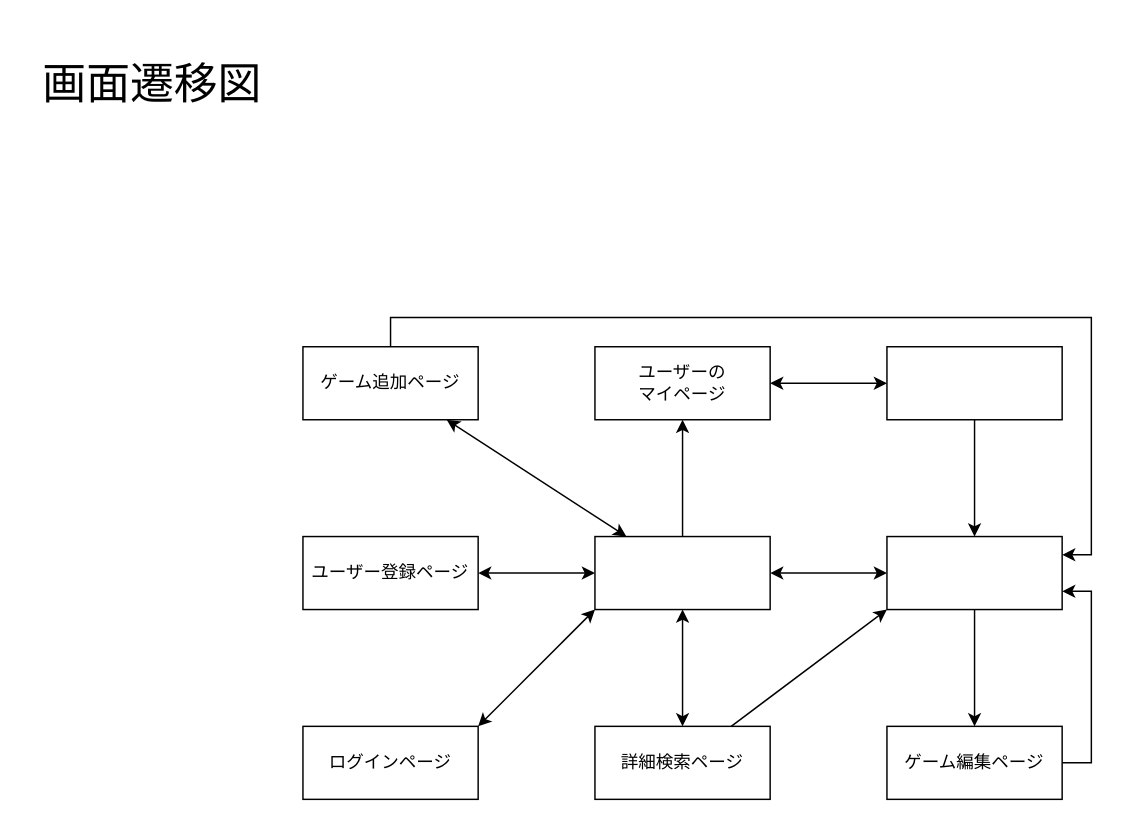
Image size: 1129x825. Some labels were removed from this diagram. The shapes that lost their labels are listed below. From the top down, each one's centre as x and y in pixels, then its label:
At point 973,382: "ユーザーの リストページ".
At point 681,572: "トップページ".
At point 973,572: "ゲーム詳細ページ".
